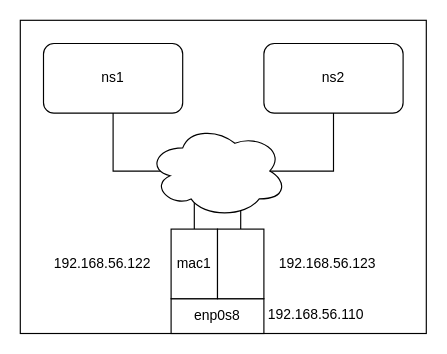
This 447x354 diagram has some shape labels left out. The shapes that lost their labels are listed below. From the top down, each one's centre as x and y in pixels, then its label:
At (217,170): "macvlan".
At (240,263): "mac2".
